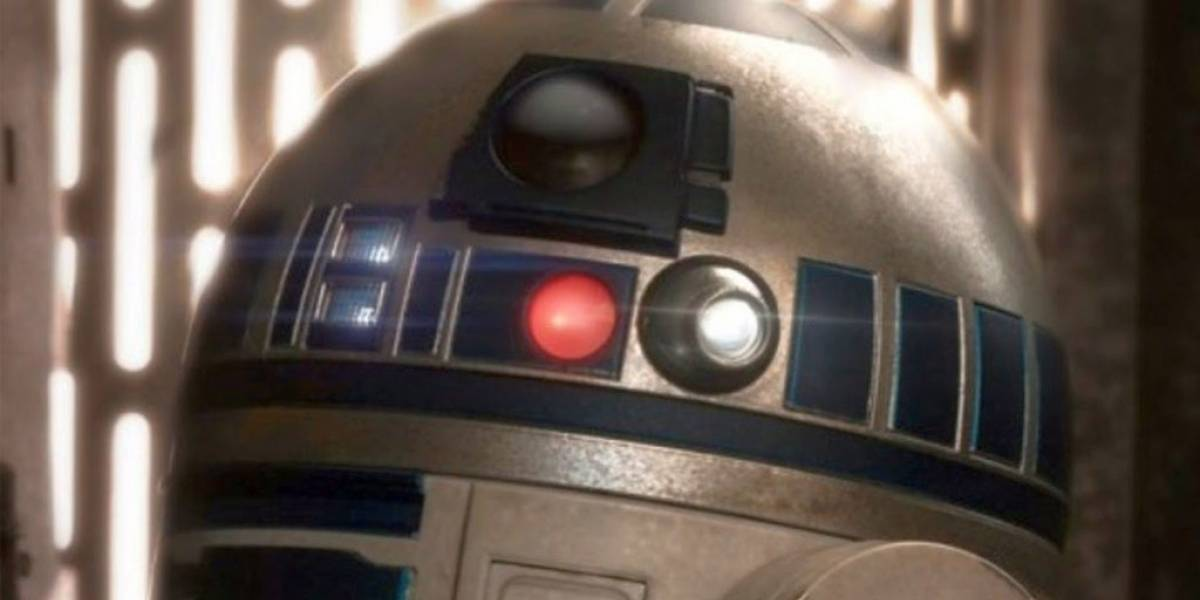r2d2: (178, 2, 1075, 600)
